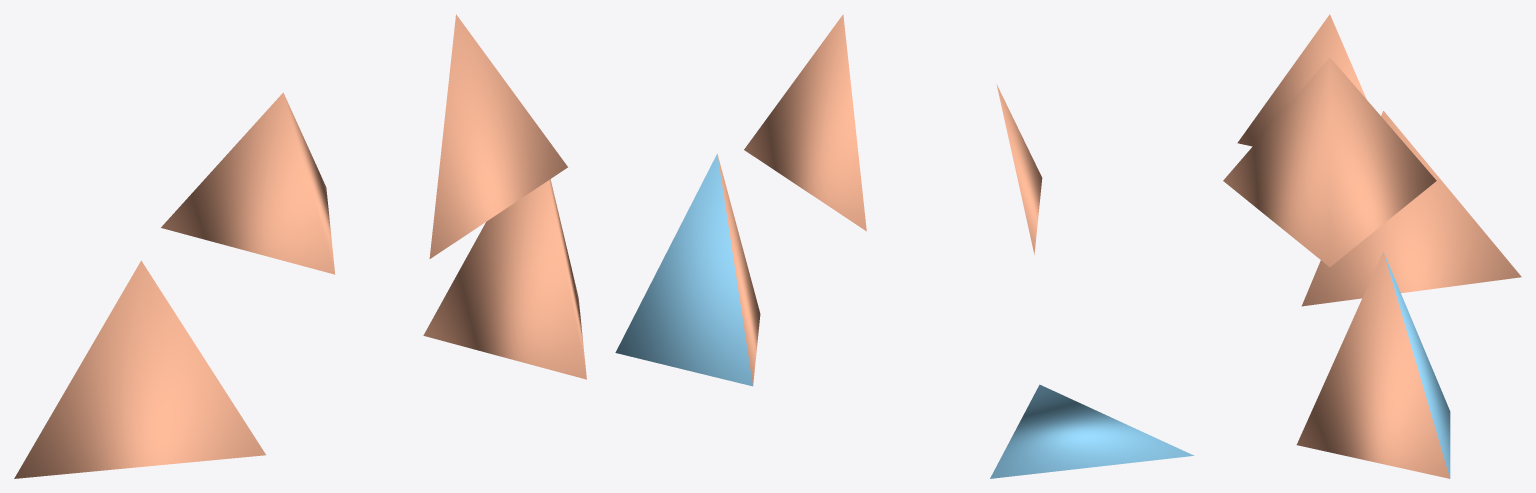
Rendered from multi_mesh.gltf.
3 views of the same model, side by side, from view 1: azimuth 30°, elevation 25°; view 2: azimuth 150°, elevation 25°; view 3: azimuth 270°, elevation 25° (orthographic). The views are drawn at different scales.
Visible parts, largest first — view 1: Left tilted tetra, Right tall tetra, Roof left, Roof right; view 2: Right tall tetra, Roof right, Left tilted tetra, Roof left; view 3: Roof right, Right tall tetra, Left tilted tetra, Roof left.
Boxes of the visible parts, x1,y1,x2,y2 form: Left tilted tetra: [14, 260, 265, 478]; Right tall tetra: [423, 179, 586, 379]; Roof left: [161, 92, 335, 274]; Roof right: [429, 14, 567, 258]; Right tall tetra: [615, 153, 760, 386]; Roof right: [744, 14, 866, 231]; Left tilted tetra: [990, 384, 1193, 478]; Roof left: [996, 84, 1042, 254]; Roof right: [1223, 57, 1436, 266]; Right tall tetra: [1296, 251, 1450, 478]; Left tilted tetra: [1301, 111, 1521, 306]; Roof left: [1237, 14, 1366, 146].
Size of the model in its own units: 3.53 by 2.1 by 1.68.
